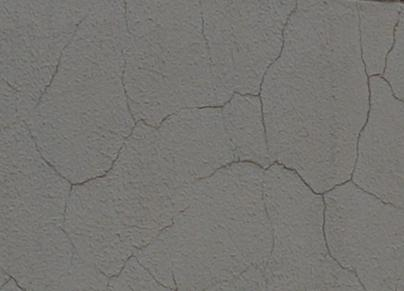fissura: (6, 2, 403, 291)
